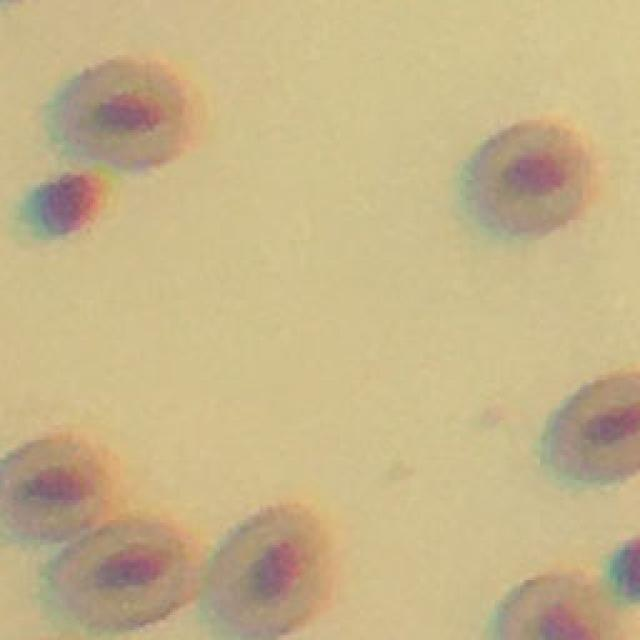RBC: (208, 504, 328, 639), (55, 520, 199, 628), (62, 59, 186, 168), (474, 120, 588, 233), (0, 435, 112, 541), (550, 374, 640, 480), (498, 574, 619, 640)
WBC: (40, 174, 102, 232), (610, 539, 640, 600)
